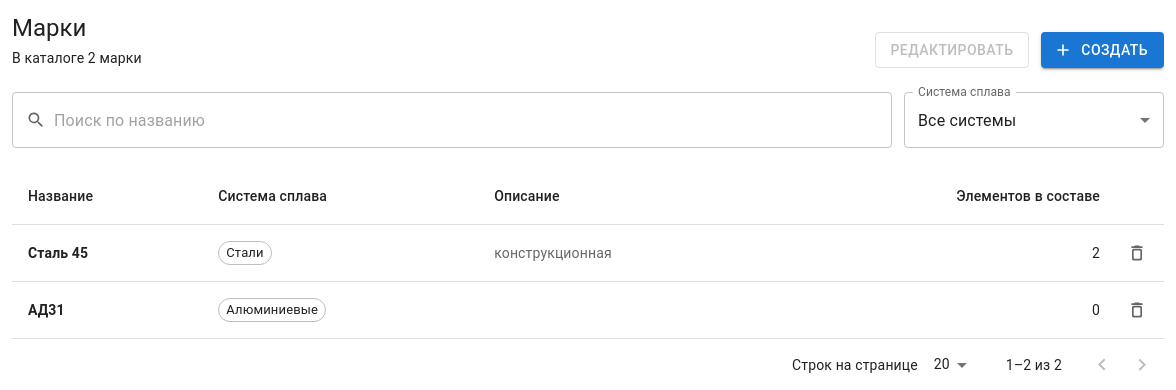
Test: GradesPage › searches on the server with the trimmed text and shows no-match
Check: the text "Сталь 45" is shown, box [12, 224, 202, 282]
Type "  сталь " into the field labelled "Поиск по названию" at point(473, 120), box [54, 92, 892, 148]
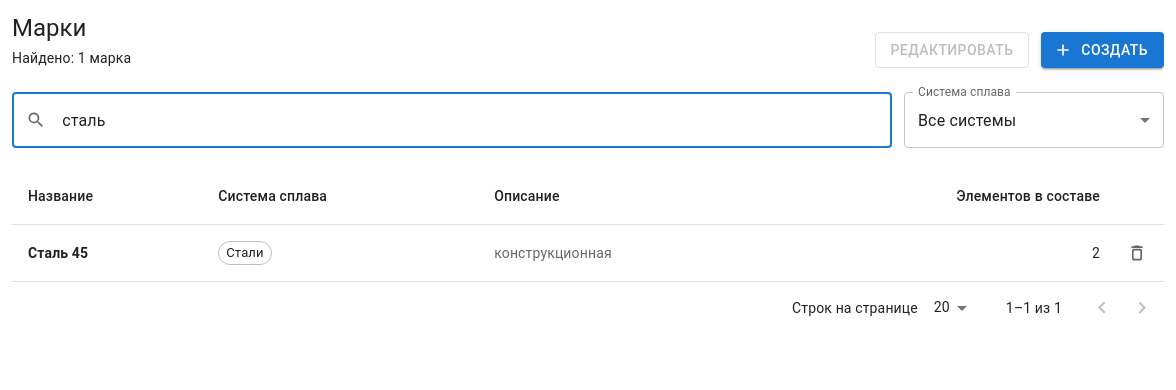
Check: the text "Сталь 45" is shown, box [12, 224, 202, 282]
Check: the text "АД31" is gone
Replace the text in the field named "Поиск по названию" with "нет такой" at point(473, 120), box [54, 92, 892, 148]
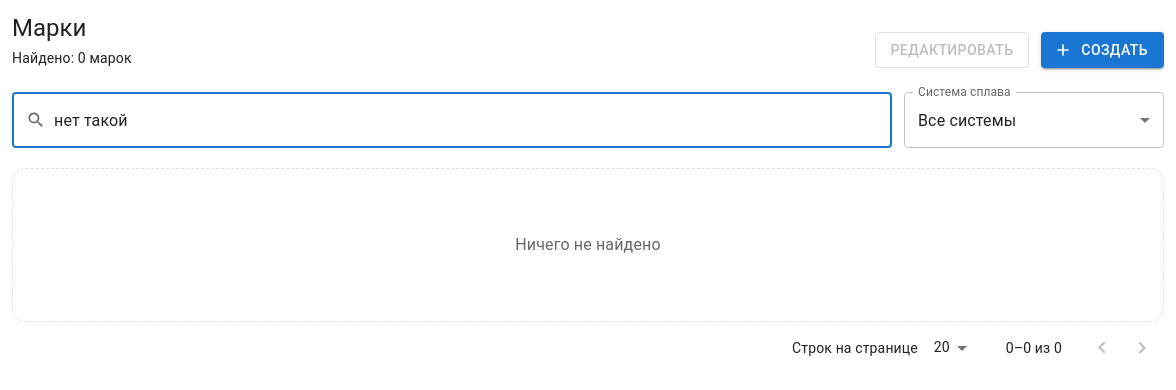
Check: the text "Ничего не найдено" is shown, box [515, 235, 661, 254]
